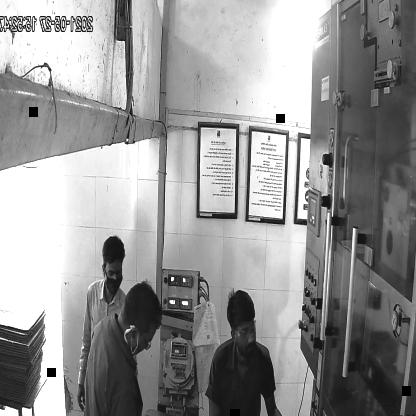goggles: (234, 316, 259, 341)
no_goggles: (101, 264, 128, 280)
